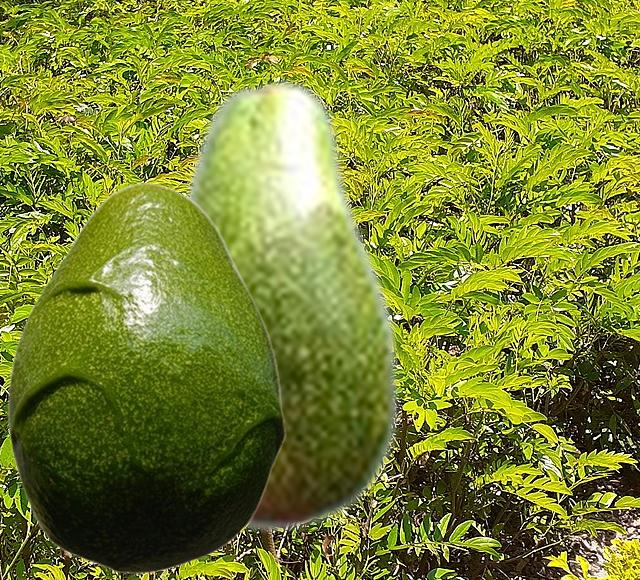avocado: (7, 181, 285, 573), (174, 74, 401, 536)
